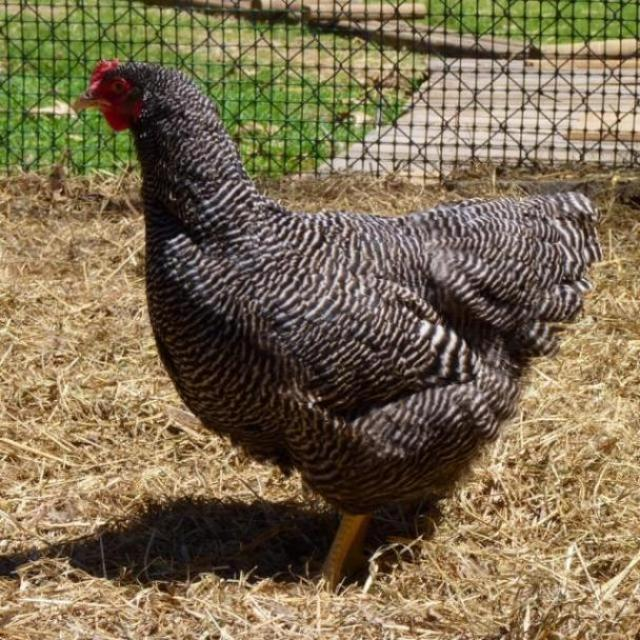Chicken: (55, 48, 613, 595)
